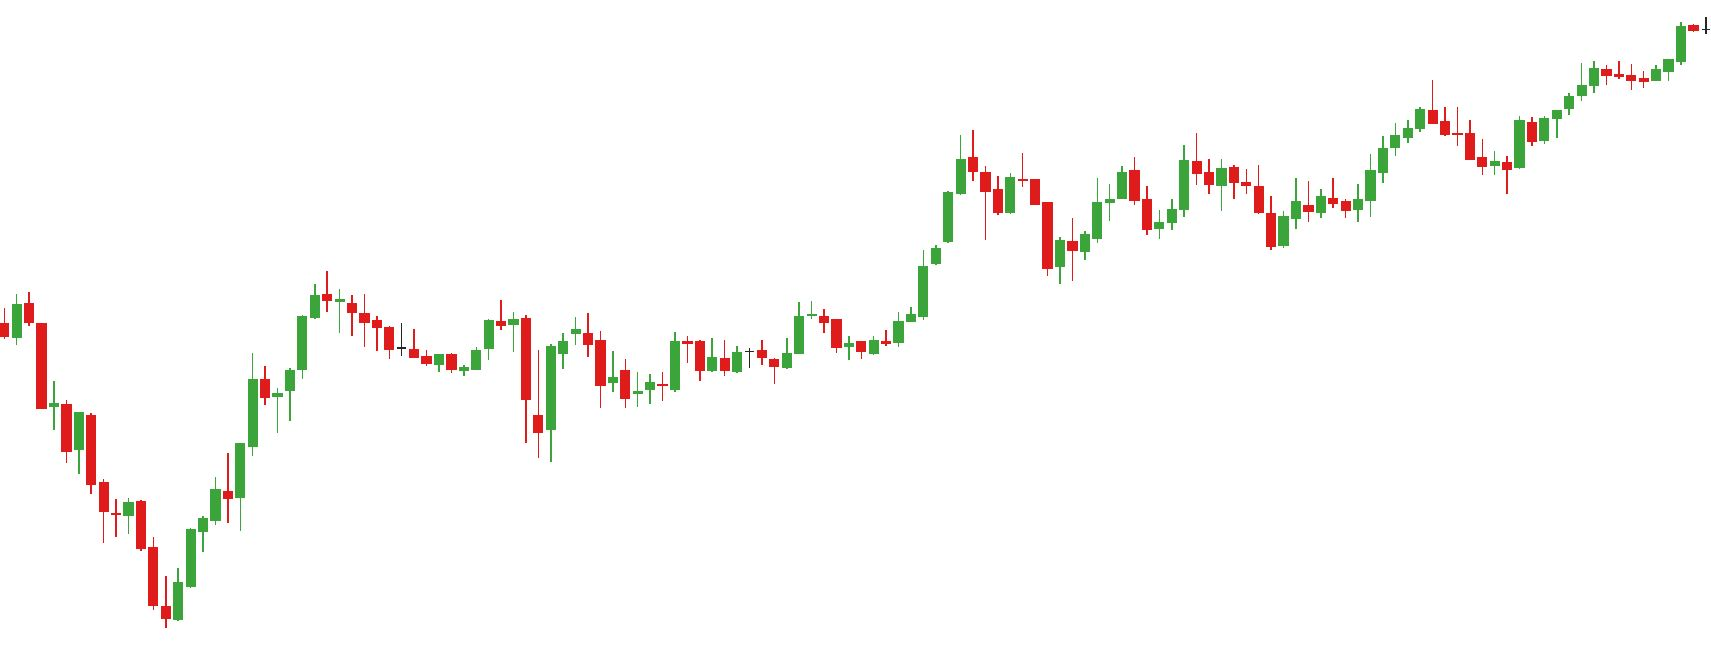buy: (270, 321, 561, 468), (1142, 176, 1292, 255)
